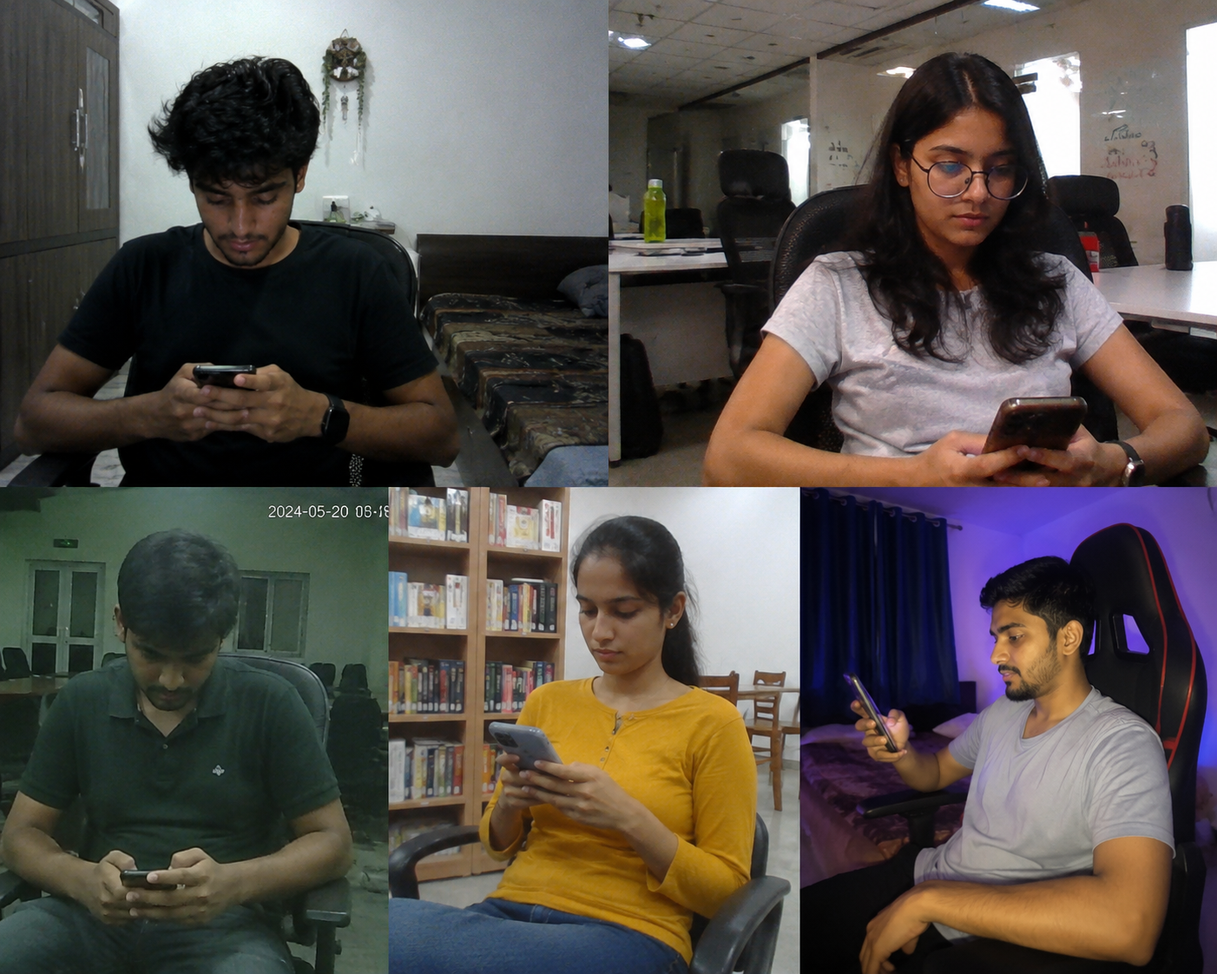distracted: (808, 515, 1116, 924), (98, 19, 352, 478), (852, 26, 1111, 474), (27, 504, 277, 944), (482, 480, 700, 905)
